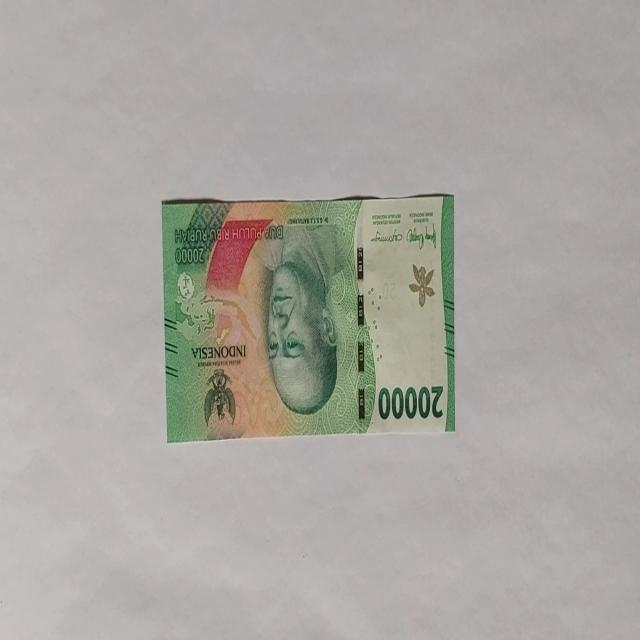dua puluh ribu rupiah: (162, 192, 456, 442), (260, 221, 344, 416)
